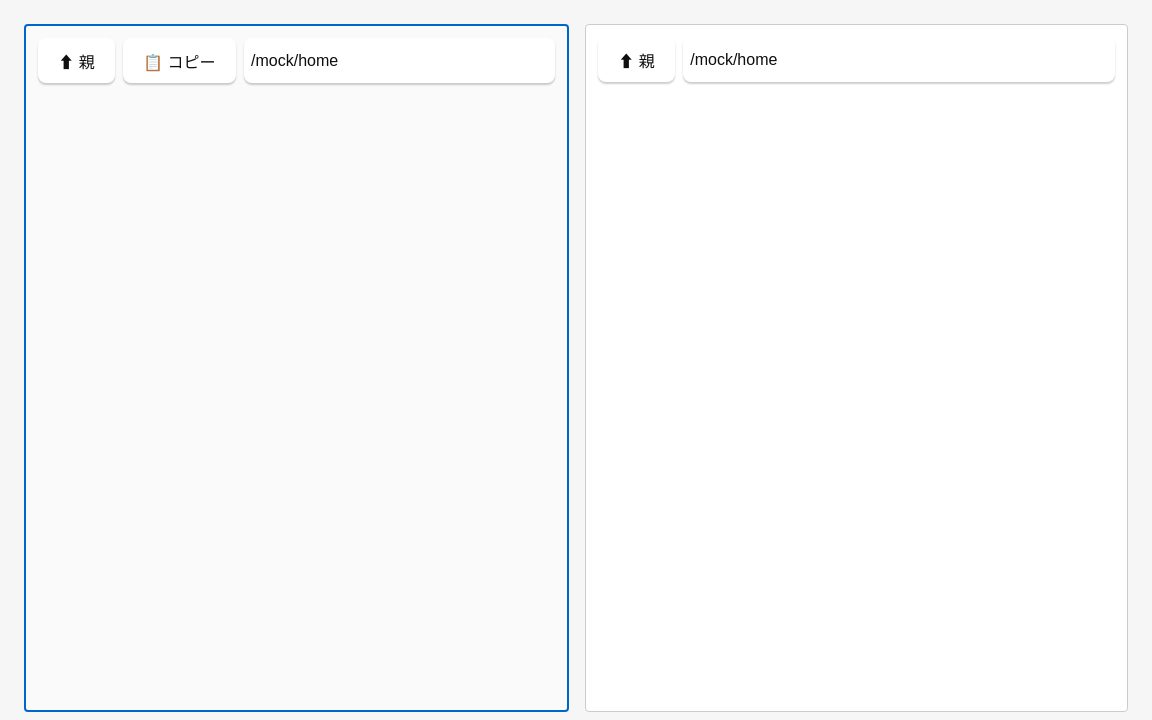
Test: App (Dual Pane) › 異常系: コピー対象の項目が未選択の状態でコピーを実行した場合にエラーが表示されること
Click the button "📋 コピー": point(179, 61) [123,38,236,83]
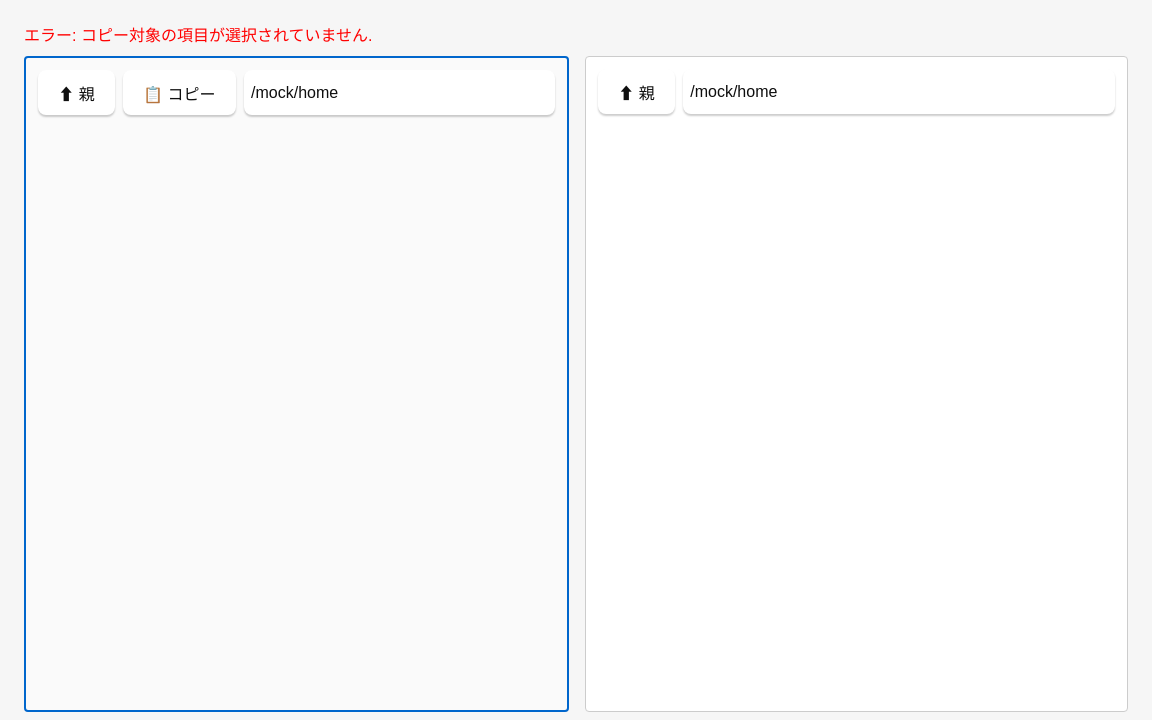
Check: the text "エラー: コピー対象の項目が選択されていません." is shown, box [24,27,372,44]
